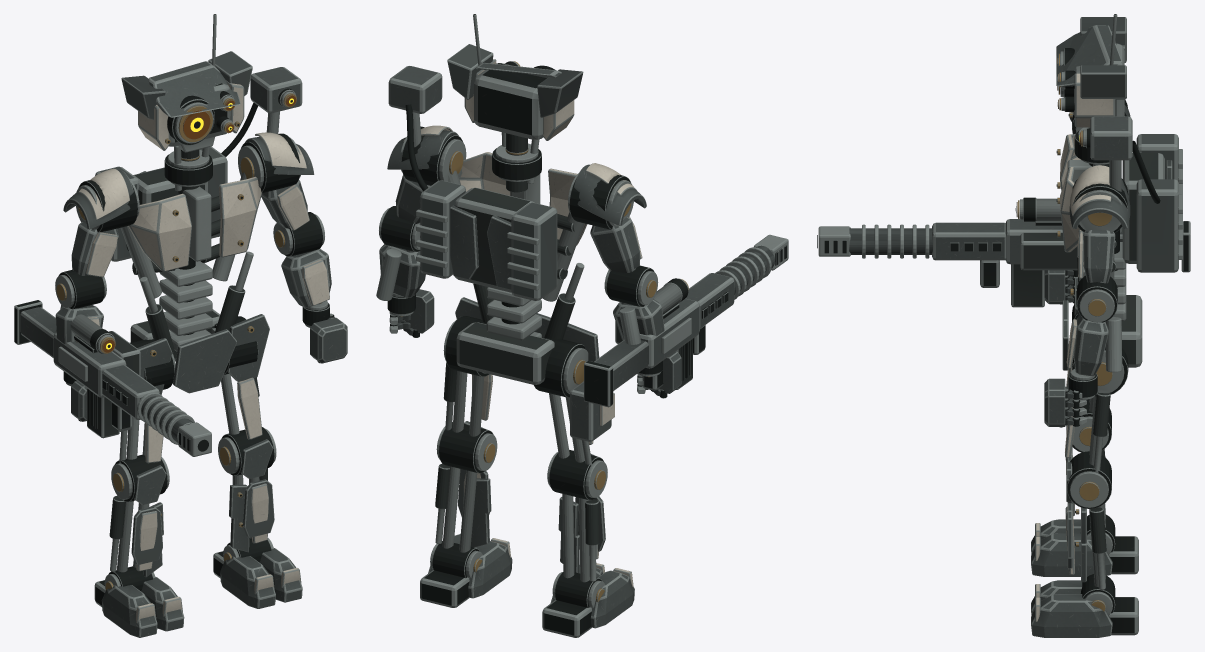
The model's file is ranged-t4-tracker.glb.
3 renders of one model, left to right at view 1: azimuth 30°, elevation 25°; view 2: azimuth 150°, elevation 25°; view 3: azimuth 270°, elevation 25°, orthographic. The views are drawn at different scales.
Parts seen in each view (by area): view 1: chest__clay, pelvis__metal, chest__metal, weaponR__metal, head__clay, pelvis__clay, weaponR__clay, shoulderR__clay, ankleL__clay, ankleR__clay, kneeL__clay, head__metal (+19 smaller); view 2: chest__clay, pelvis__metal, chest__metal, weaponR__metal, head__metal, weaponR__clay, kneeL__metal, kneeR__metal, head__clay, shoulderR__clay, ankleL__metal, ankleR__metal (+17 smaller); view 3: chest__clay, weaponR__metal, head__clay, weaponR__clay, chest__metal, shoulderL__clay, ankleL__clay, pelvis__metal, kneeL__metal, ankleR__clay, elbowL__metal, elbowL__clay (+11 smaller).
Boxes of the visible parts, x1=… form: chest__clay: x1=95, y1=67, x2=302, y2=271; pelvis__metal: x1=130, y1=251, x2=258, y2=389; chest__metal: x1=120, y1=88, x2=296, y2=298; weaponR__metal: x1=14, y1=300, x2=211, y2=456; head__clay: x1=121, y1=51, x2=252, y2=150; pelvis__clay: x1=137, y1=314, x2=269, y2=394; weaponR__clay: x1=20, y1=307, x2=193, y2=442; shoulderR__clay: x1=63, y1=168, x2=133, y2=277; ankleL__clay: x1=220, y1=548, x2=302, y2=608; ankleR__clay: x1=101, y1=577, x2=184, y2=637; kneeL__clay: x1=229, y1=439, x2=274, y2=552; head__metal: x1=165, y1=14, x2=240, y2=194; chest__clay: x1=388, y1=66, x2=587, y2=300; pelvis__metal: x1=443, y1=263, x2=588, y2=397; chest__metal: x1=405, y1=104, x2=584, y2=301; weaponR__metal: x1=584, y1=234, x2=788, y2=407; head__metal: x1=473, y1=14, x2=555, y2=192; weaponR__clay: x1=594, y1=245, x2=775, y2=390; kneeL__metal: x1=435, y1=422, x2=497, y2=552; kneeR__metal: x1=547, y1=450, x2=607, y2=582; head__clay: x1=447, y1=44, x2=583, y2=140; shoulderR__clay: x1=574, y1=163, x2=646, y2=272; ankleL__metal: x1=420, y1=541, x2=482, y2=607; ankleR__metal: x1=542, y1=572, x2=604, y2=637; chest__clay: x1=1060, y1=116, x2=1178, y2=272; weaponR__metal: x1=817, y1=197, x2=1190, y2=307; head__clay: x1=1056, y1=17, x2=1126, y2=127; weaponR__clay: x1=849, y1=219, x2=1122, y2=264; chest__metal: x1=1056, y1=127, x2=1182, y2=279; shoulderL__clay: x1=1069, y1=165, x2=1130, y2=283; ankleL__clay: x1=1031, y1=580, x2=1112, y2=637; pelvis__metal: x1=1069, y1=230, x2=1142, y2=396; kneeL__metal: x1=1067, y1=451, x2=1111, y2=589; ankleR__clay: x1=1031, y1=519, x2=1112, y2=576; elbowL__metal: x1=1076, y1=275, x2=1122, y2=372; elbowL__clay: x1=1066, y1=315, x2=1108, y2=376.
Bounding box in the file's own units: 2.33 × 4.69 × 2.65.
13 materials, 10 textured.
